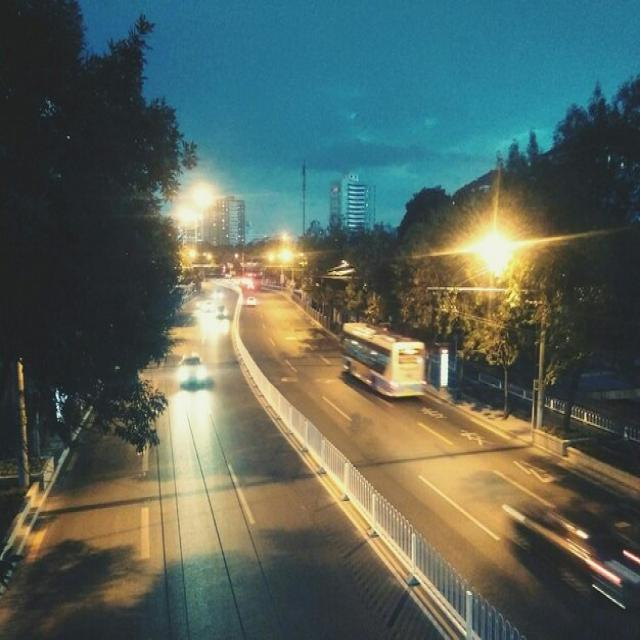light_signboard: (436, 346, 454, 391)
lighting: (182, 186, 215, 230)
streetlight: (485, 226, 510, 274), (266, 245, 300, 263), (273, 229, 289, 245)
